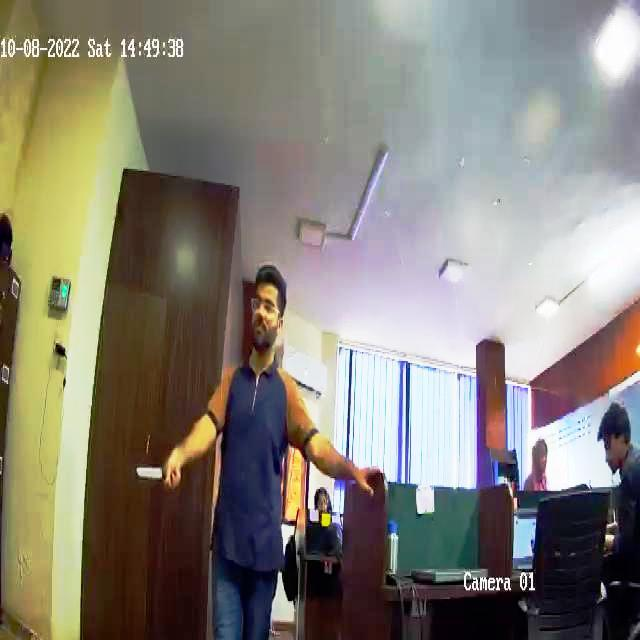Knife: (132, 461, 178, 492)
